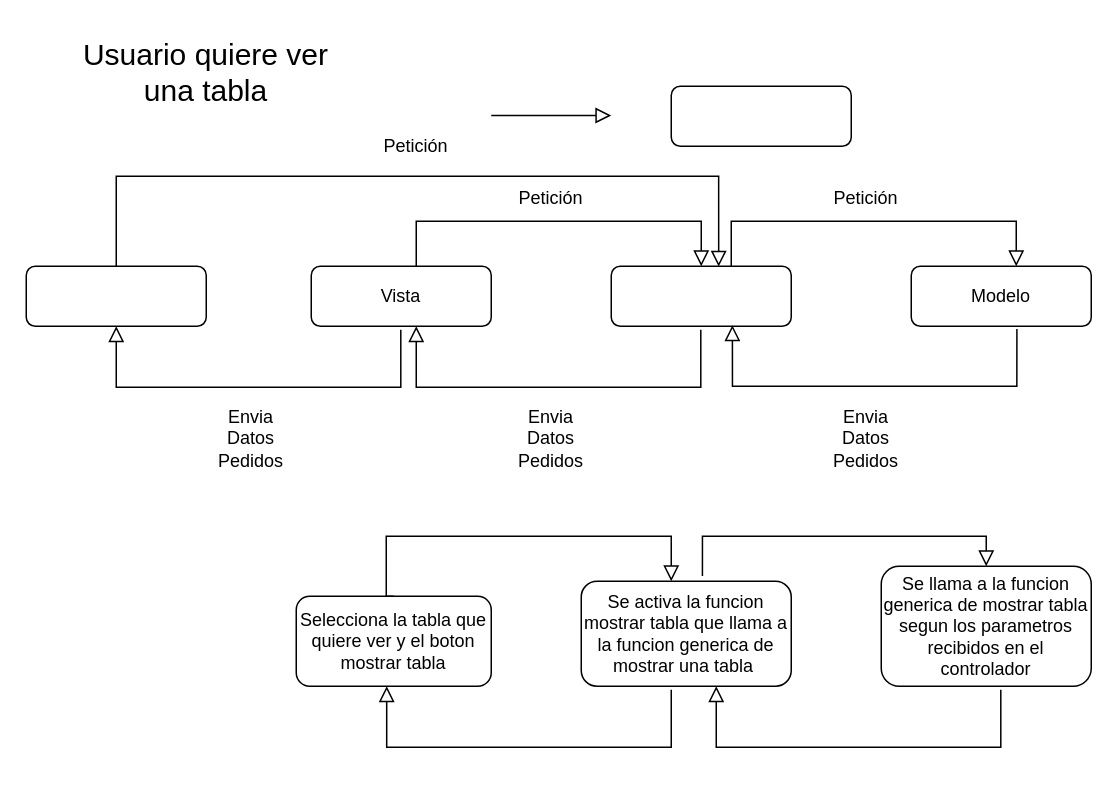
This 1118x789 diagram has some shape labels left out. The centre of each missing label's shape, as x and y in pixels:
"Controlador" goes at (700,295).
"Usuario" goes at (115,295).
